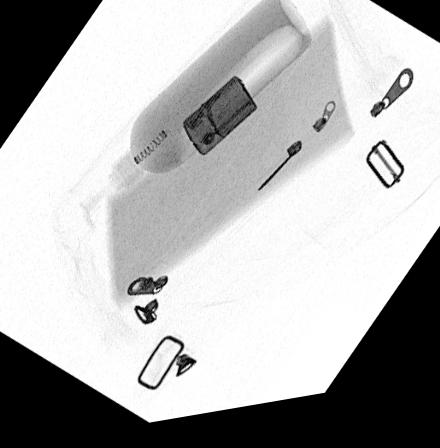Lighter: (181, 83, 259, 162)
